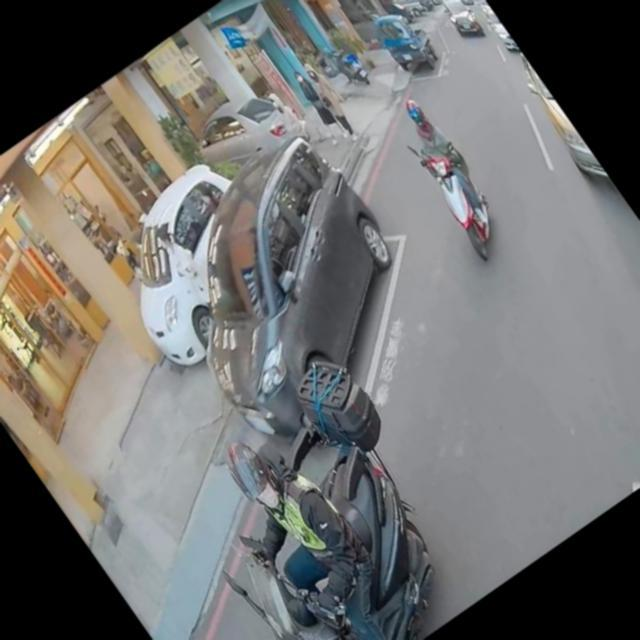person: (183, 401, 431, 640), (383, 91, 508, 243), (146, 218, 226, 312), (296, 55, 367, 144), (286, 66, 348, 144), (256, 82, 314, 152), (188, 175, 228, 217)
